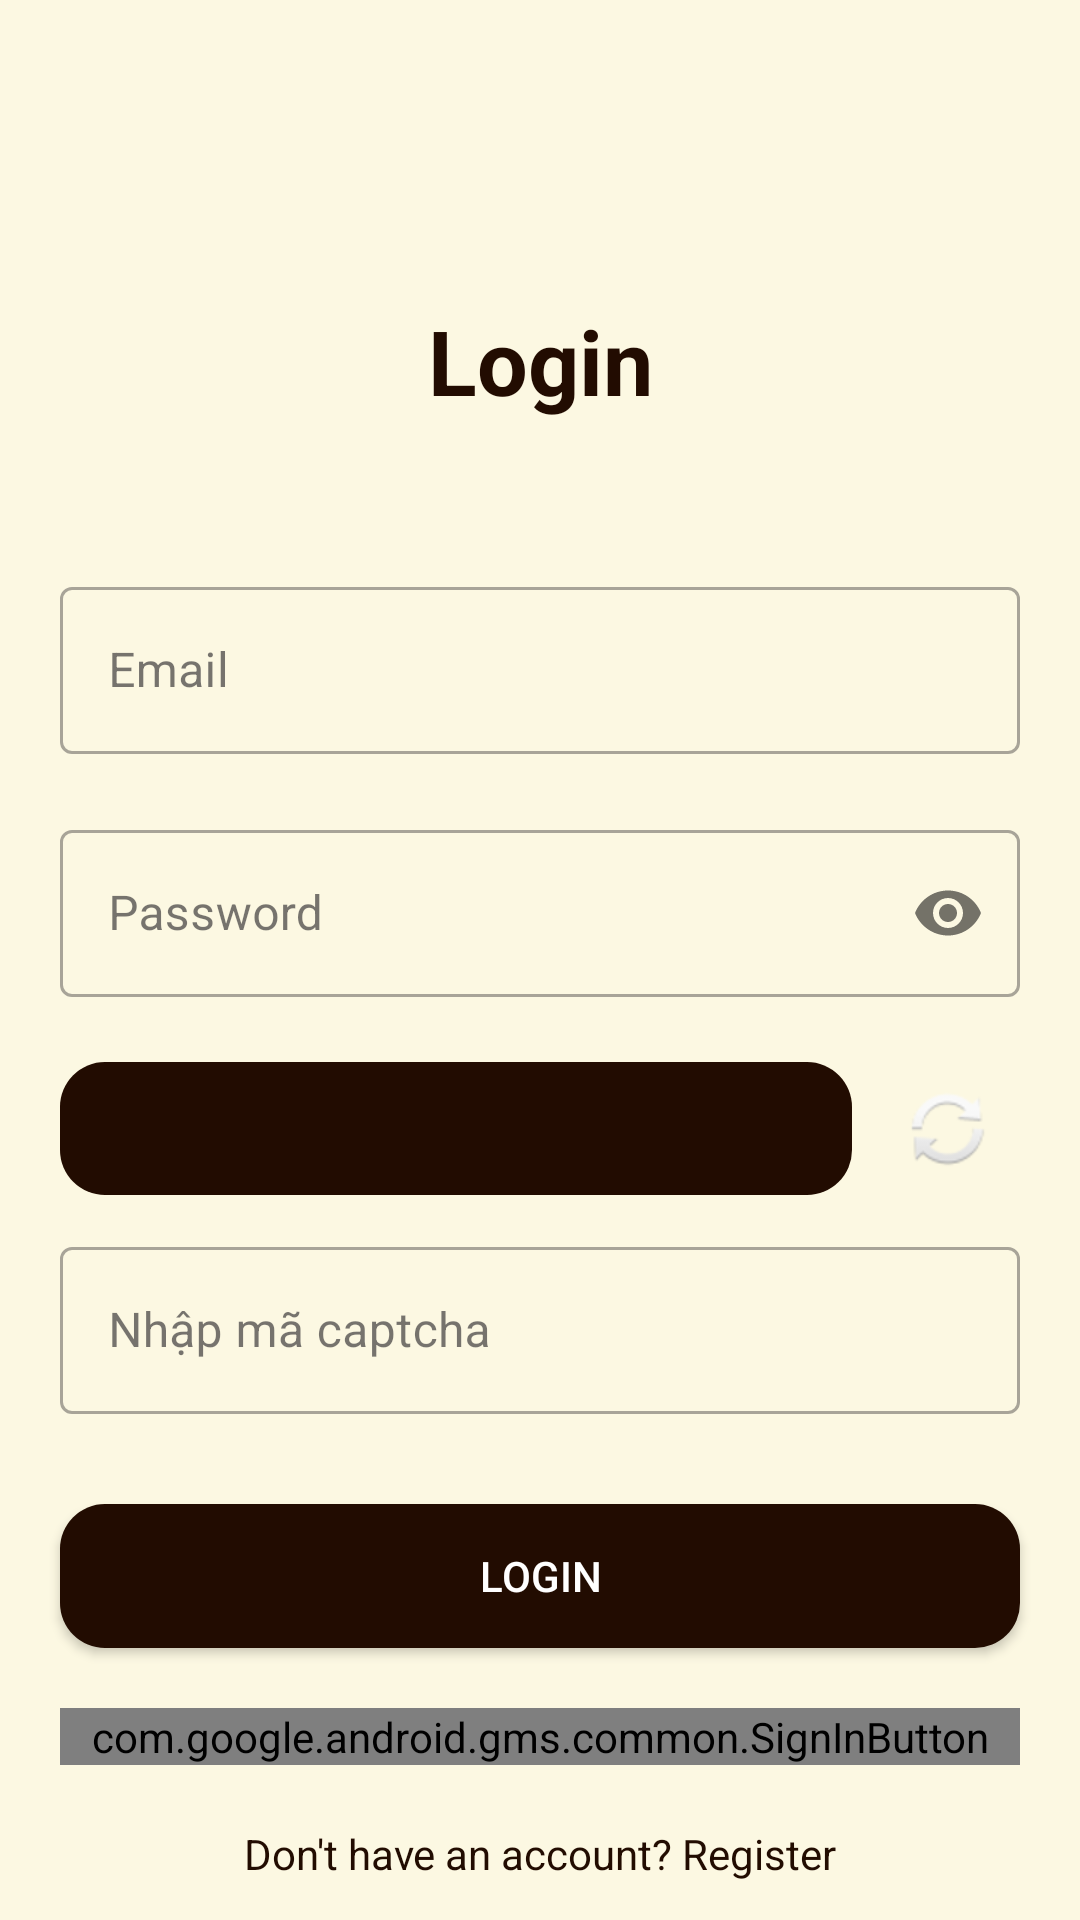

Locate icon controls on the screen. Image size 1080 x 1920, boxes as {"left": x1, "top": y1, "right": x2, "bottom": y2}.
Refresh Captcha: {"left": 912, "top": 1100, "right": 982, "bottom": 1165}
